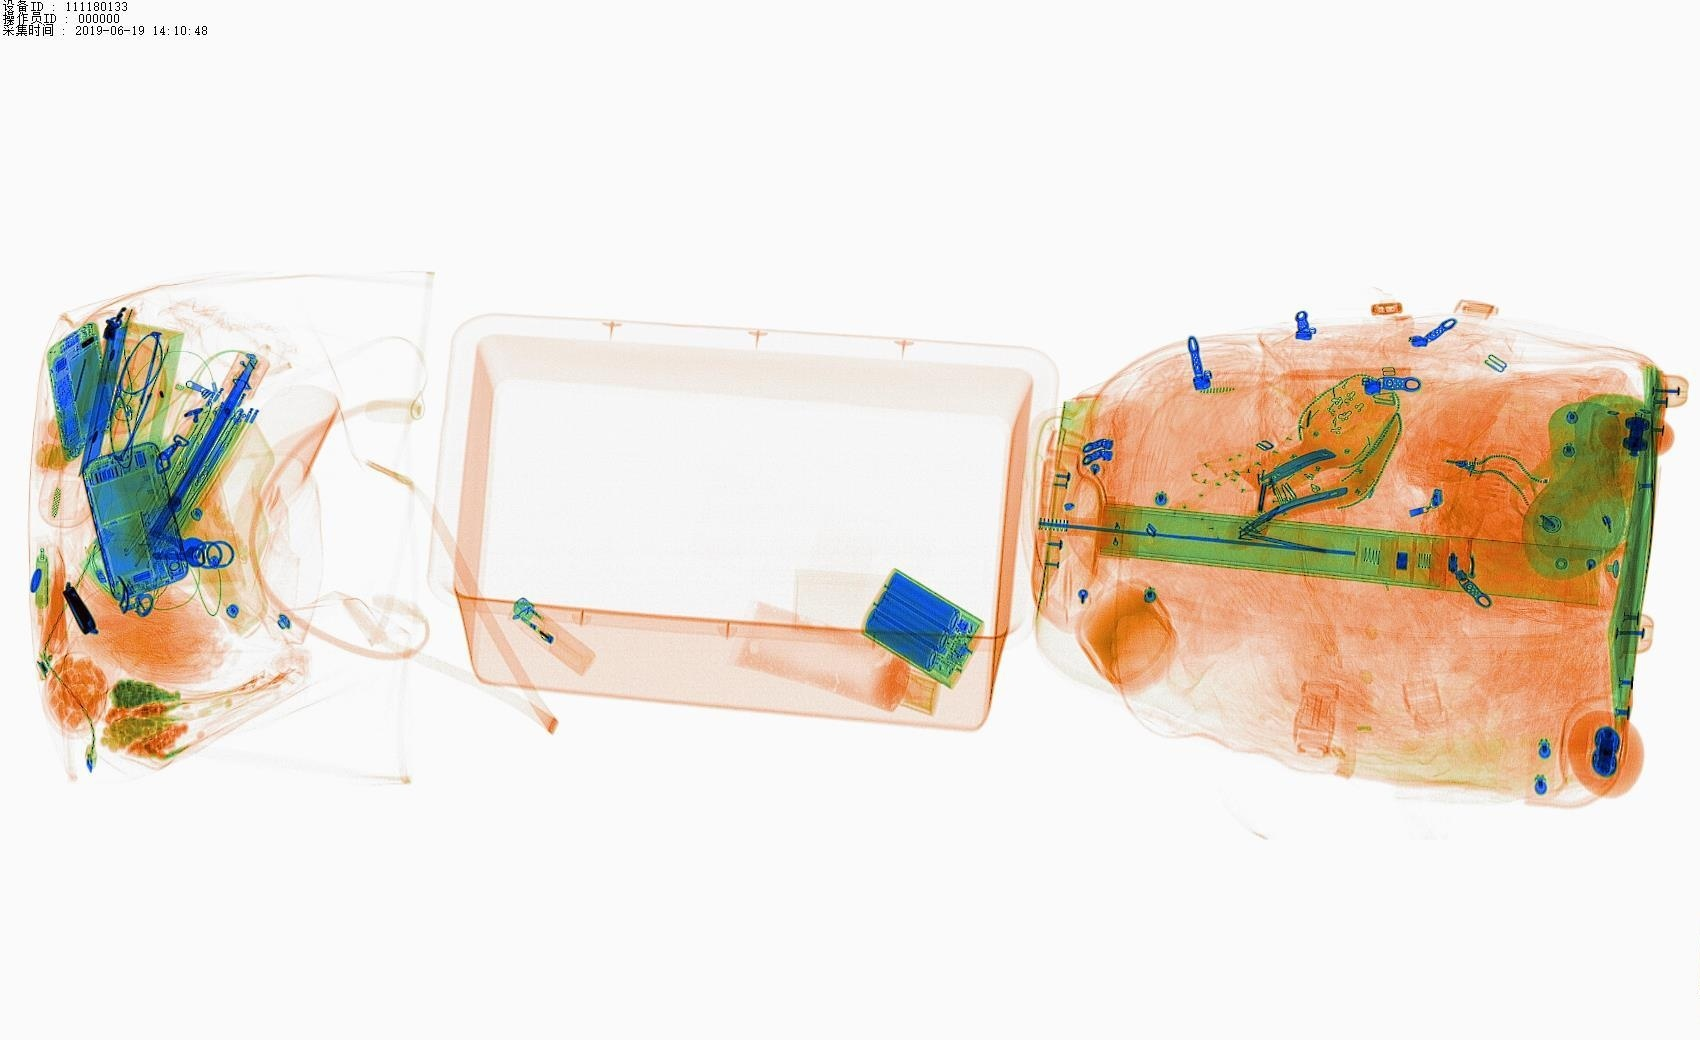NonmetallicFire: (504, 595, 600, 682)
